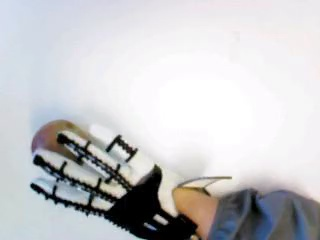apple: (29, 119, 89, 174)
hand: (30, 120, 201, 237)
